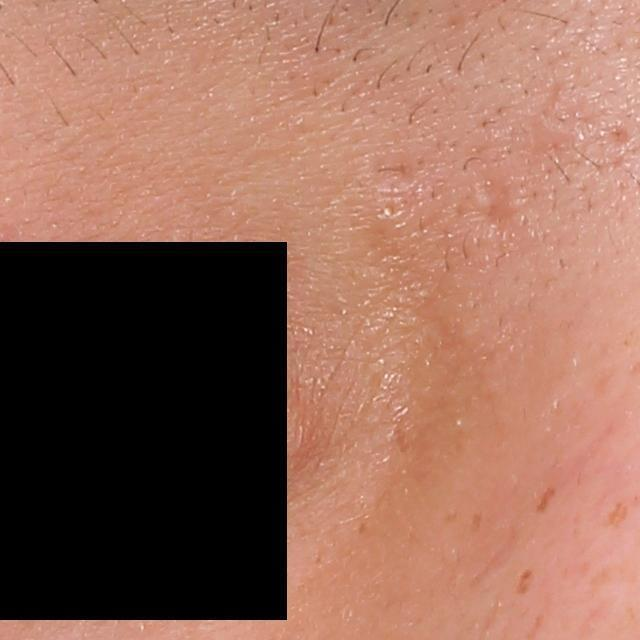atrophic_scar: (452, 164, 524, 233), (363, 134, 428, 189)
melasma: (530, 482, 555, 519), (602, 498, 630, 529), (515, 563, 534, 597), (470, 508, 485, 536), (355, 518, 370, 536)
